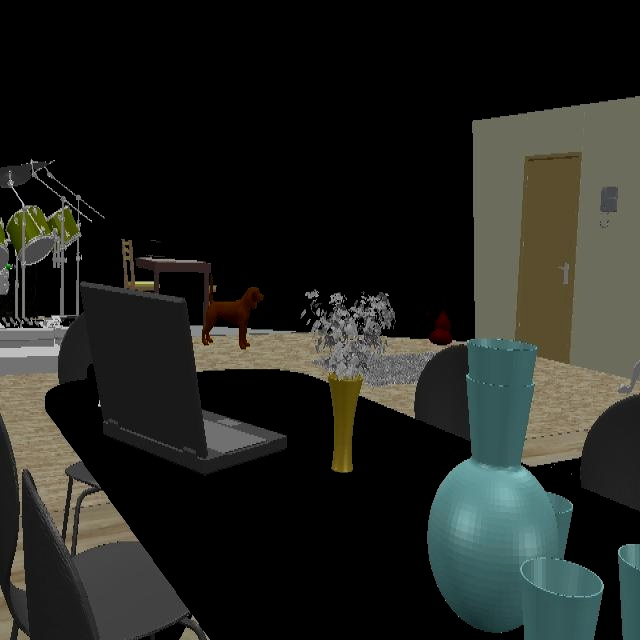chair: (0, 417, 202, 639), (580, 395, 640, 511), (415, 345, 470, 439), (122, 238, 154, 291)
laptop: (82, 283, 286, 474)
table: (46, 370, 489, 638), (135, 257, 211, 324)
